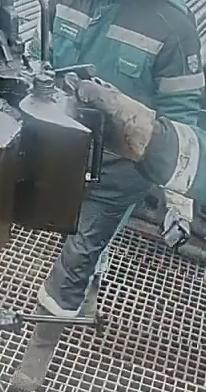gloves: (75, 79, 169, 165)
vest: (48, 0, 205, 127)
